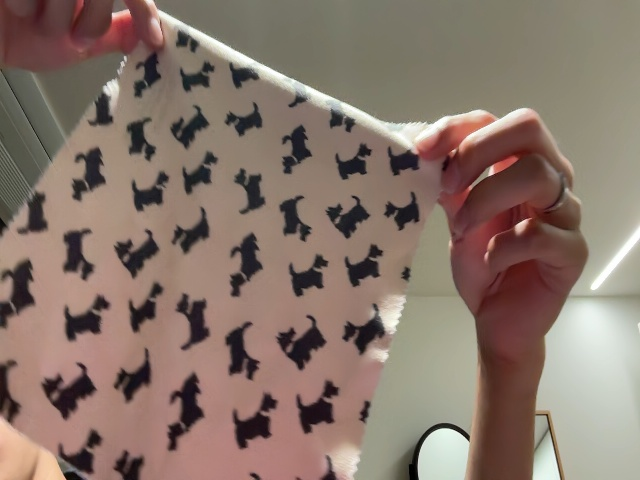towel: (1, 9, 450, 480)
